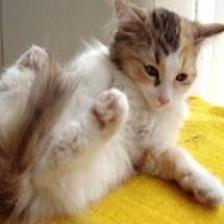cat: (110, 1, 224, 113)
